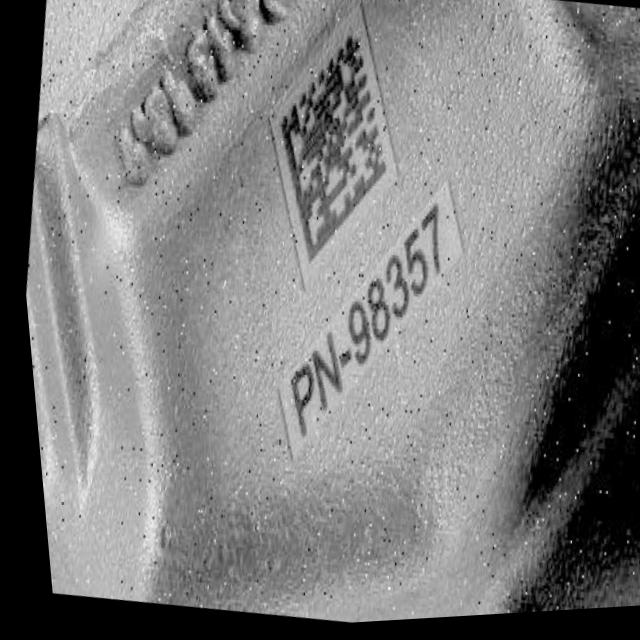ocr: (259, 179, 480, 490)
